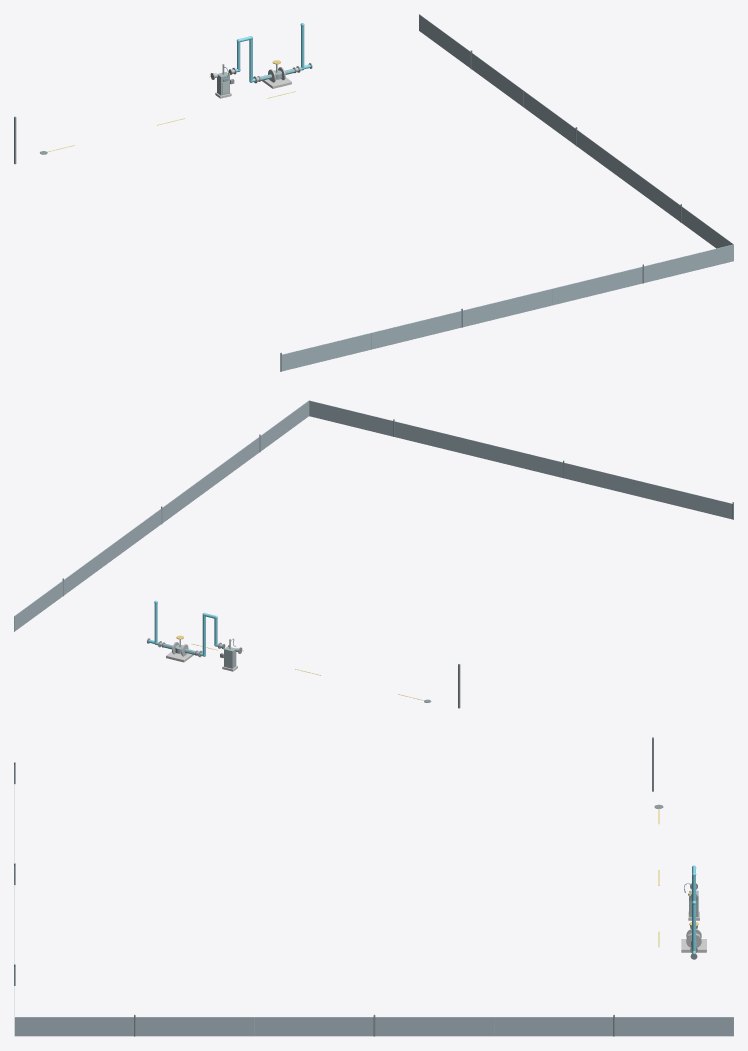
3 renders of one model, top to bottom at view 1: azimuth 30°, elevation 25°; view 2: azimuth 150°, elevation 25°; view 3: azimuth 270°, elevation 25°, orthographic. The views are drawn at different scales.
Parts seen in each view (by area): view 1: render-batch-6, render-batch-0; view 2: render-batch-6, render-batch-0; view 3: render-batch-6, render-batch-1.
Part boxes in pixels (<box>): render-batch-6: <box>282,14,733,371</box>; render-batch-0: <box>236,23,310,82</box>; render-batch-6: <box>14,400,732,631</box>; render-batch-0: <box>148,600,218,656</box>; render-batch-6: <box>14,765,733,1036</box>; render-batch-1: <box>14,737,697,1036</box>.
Bounding box in the file's own units: 51.14 × 5.72 × 61.49.
